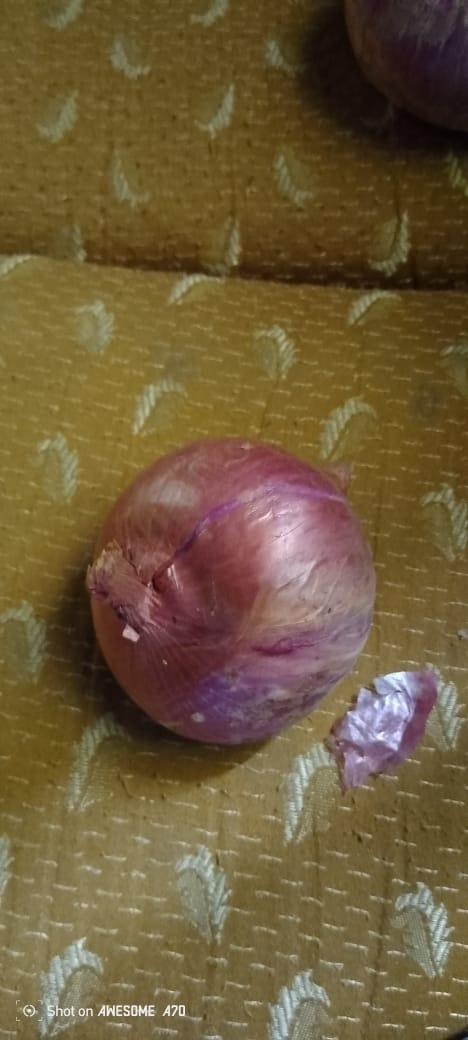non-mango: (83, 434, 380, 745)
